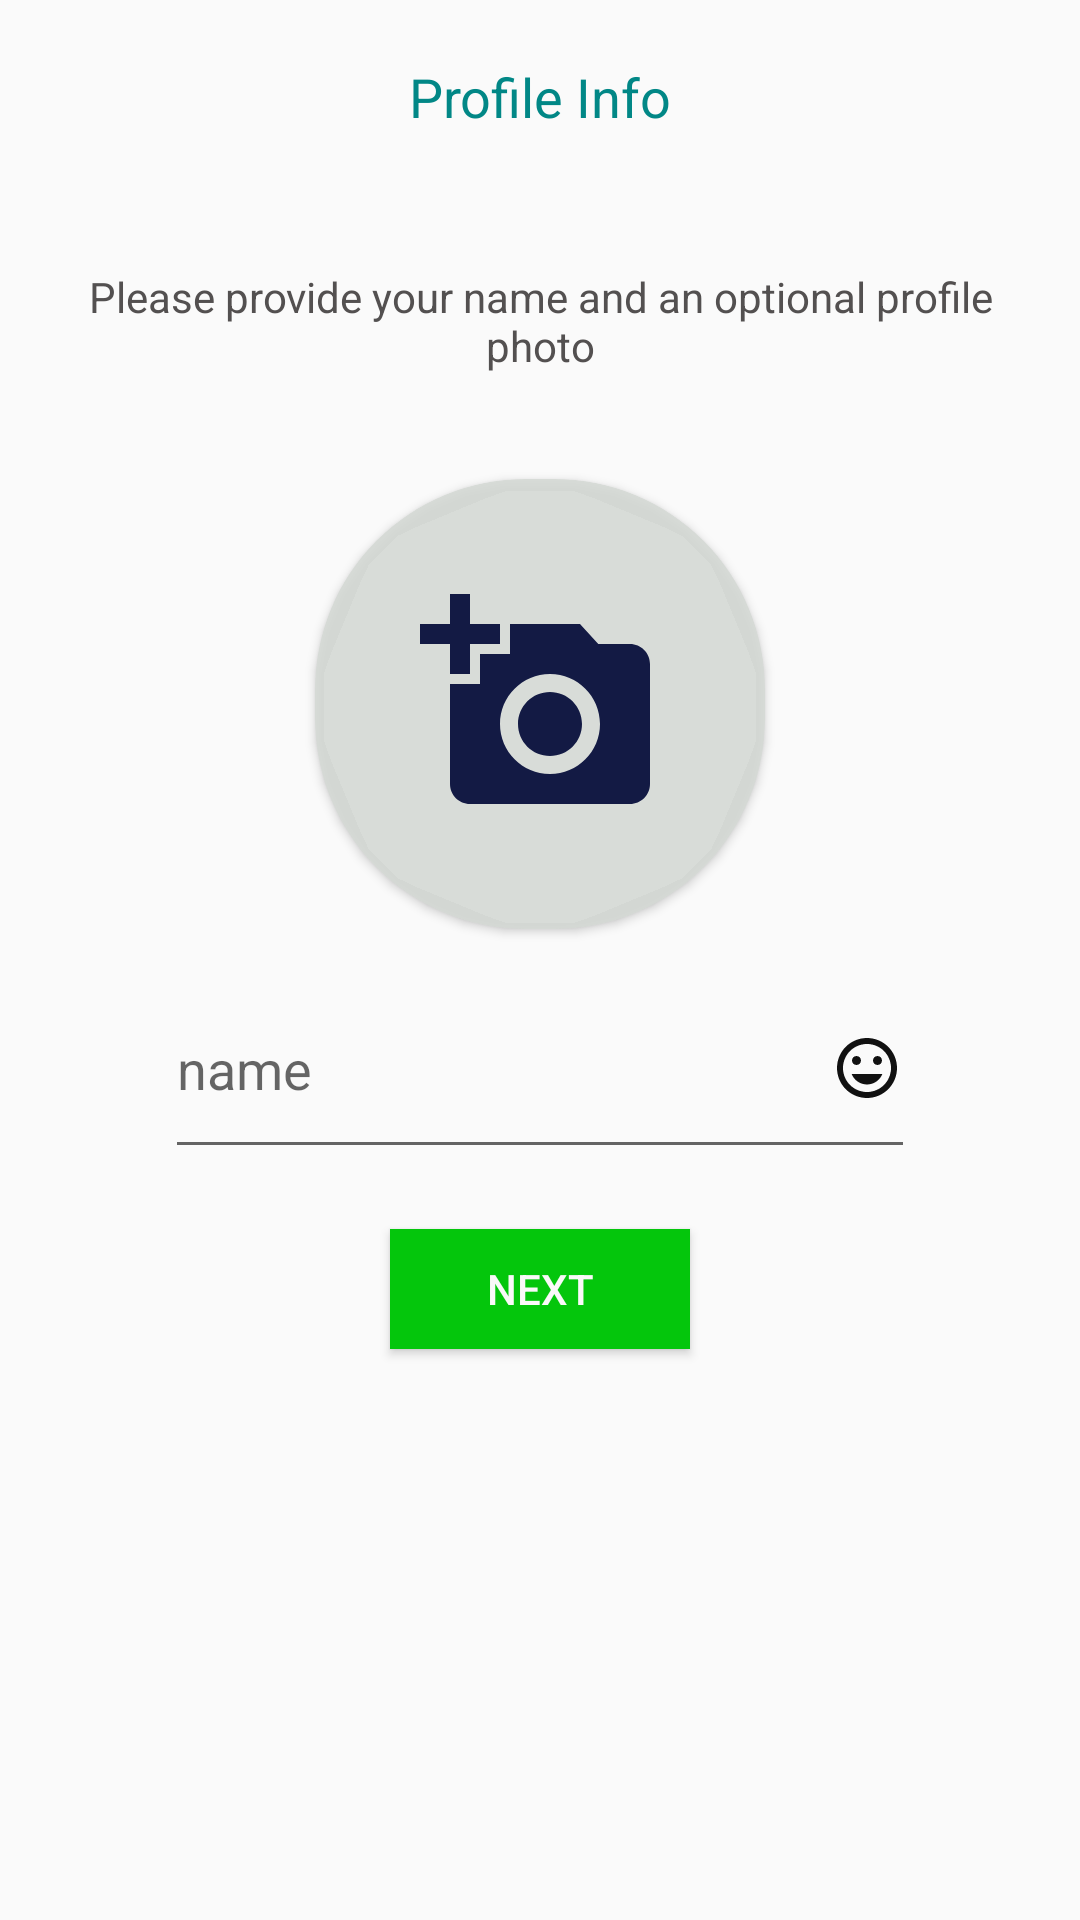

Icons on this 1080 × 1920 Android screen, each with its box as (x1, y1, x2, y2):
add photo: (420, 594, 650, 804)
